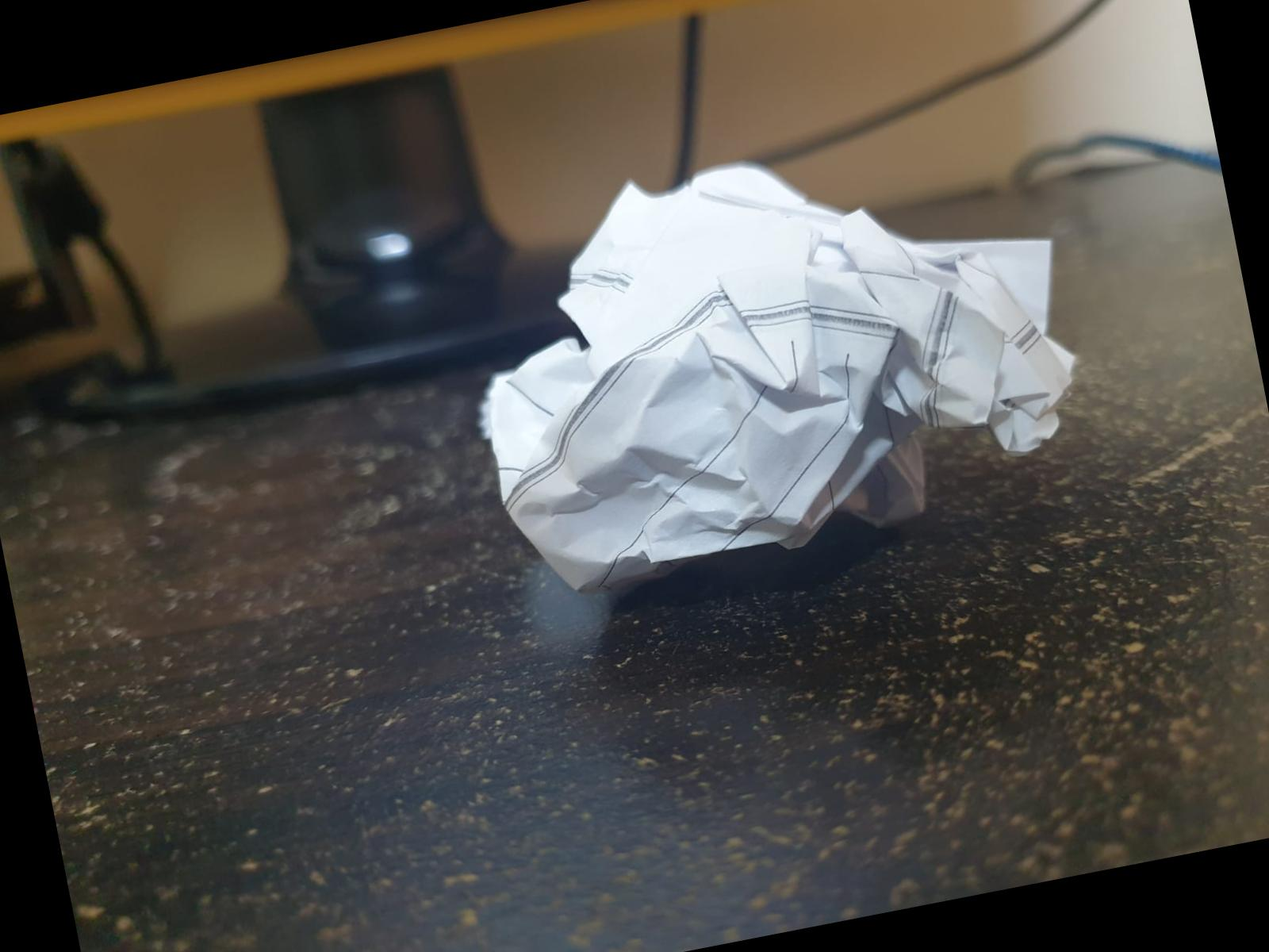Kertas: (480, 163, 1073, 591)
